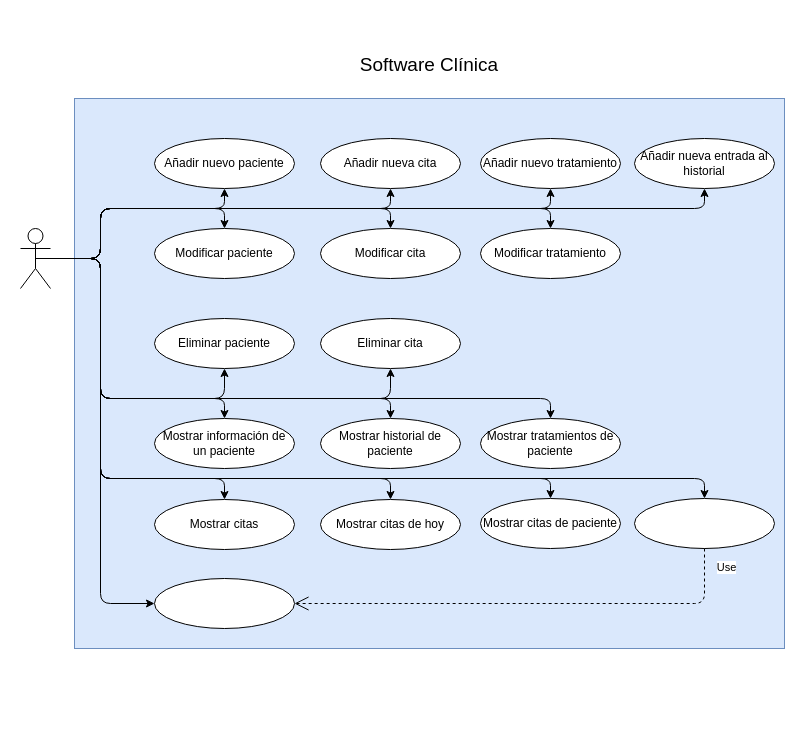
Some shapes in this 802 by 747 pixel diagram are drawn without their labels. Here are the shapes that lost their labels. From the top down, the centre of each, then its label:
the point at 35,258: Clínica
the point at 704,523: Buscar paciente
the point at 224,603: Mostrar pacientes
